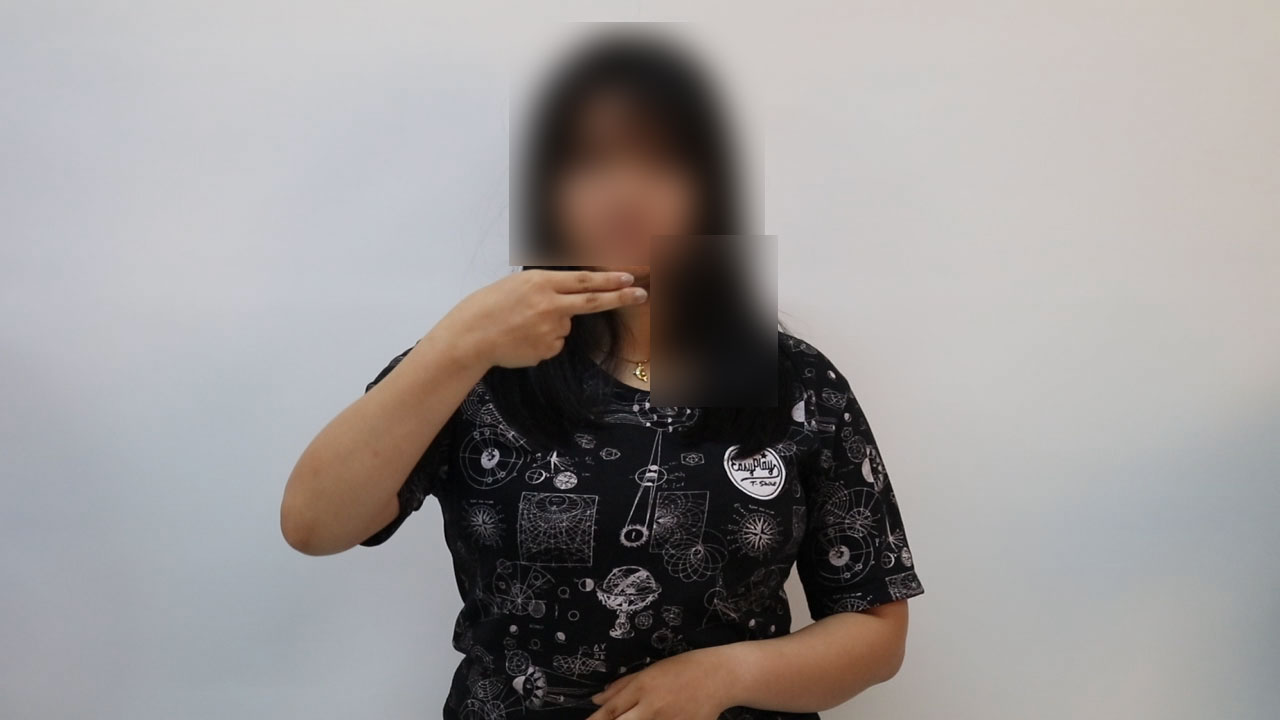hor: (445, 263, 658, 376)
